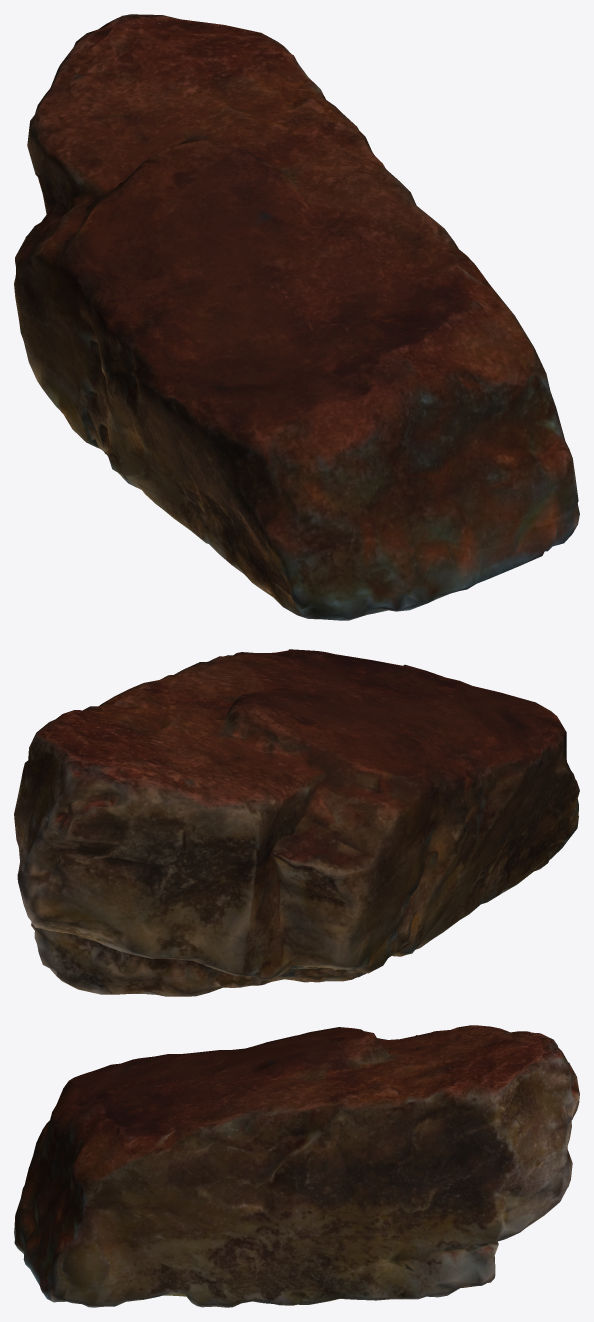
The model's file is pbr-rock-07.glb.
The picture shows the model from 3 angles, top to bottom: view 1: azimuth 30°, elevation 25°; view 2: azimuth 150°, elevation 25°; view 3: azimuth 270°, elevation 25°; orthographic projection. The views are drawn at different scales.
Visible parts, largest first — view 1: rock_07; view 2: rock_07; view 3: rock_07.
Boxes of the visible parts, <box> form: rock_07: <box>14,14,579,620</box>; rock_07: <box>14,649,579,996</box>; rock_07: <box>14,1025,579,1307</box>.
Size of the model in its own units: 0.1689 by 0.1437 by 0.3202.
Materials: 1 (1 with a texture image).
